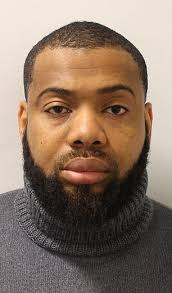person: (17, 20, 153, 226)
